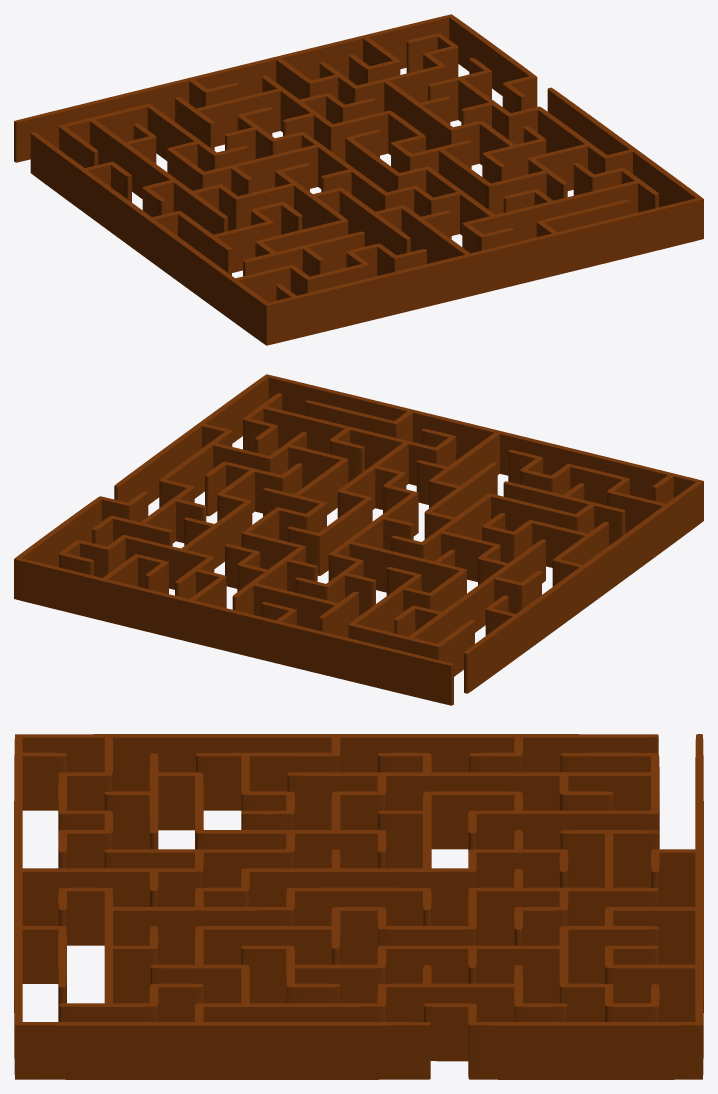
File: labyrinth.fbx
The picture shows the model from 3 angles, top to bottom: view 1: azimuth 30°, elevation 25°; view 2: azimuth 150°, elevation 25°; view 3: azimuth 270°, elevation 25°; orthographic projection. The views are drawn at different scales.
Parts seen in each view (by area): view 1: lbr_1; view 2: lbr_1; view 3: lbr_1.
Boxes of the visible parts, box(x1,y1,x2,y2) form: lbr_1: box(14, 14, 703, 345); lbr_1: box(14, 374, 703, 705); lbr_1: box(14, 734, 703, 1079).
Size of the model in its own units: 3.46 by 0.3 by 3.45.
